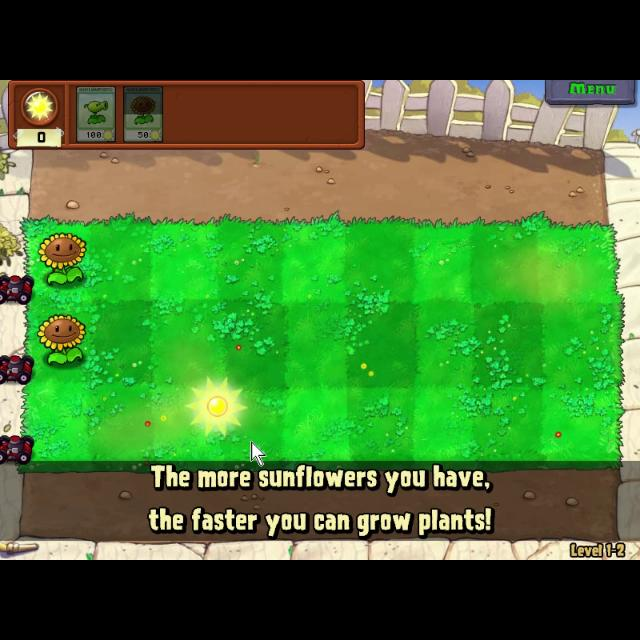Garden: (21, 213, 623, 472)
Menu Button: (544, 80, 636, 106)
Mower: (0, 349, 40, 388), (1, 430, 36, 470), (0, 270, 36, 308)
Peashooter: (74, 83, 118, 143)
Seed Panel: (5, 80, 369, 150)
Sun: (184, 377, 250, 438)
Sunflower: (122, 82, 164, 144)
Sunflower Seed: (34, 227, 94, 287), (34, 312, 92, 366)
